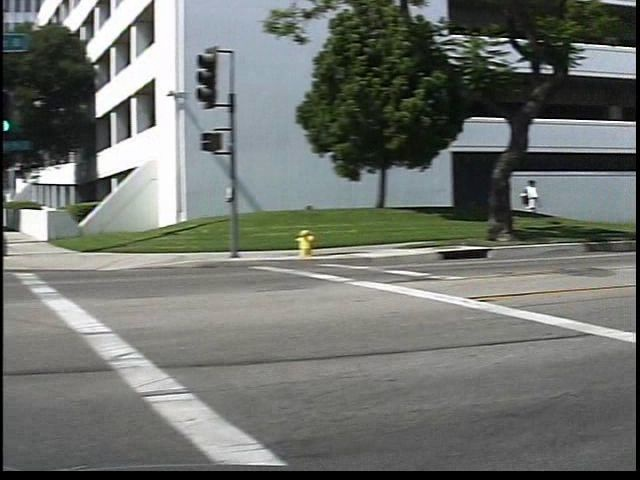person: (537, 174, 559, 234)
